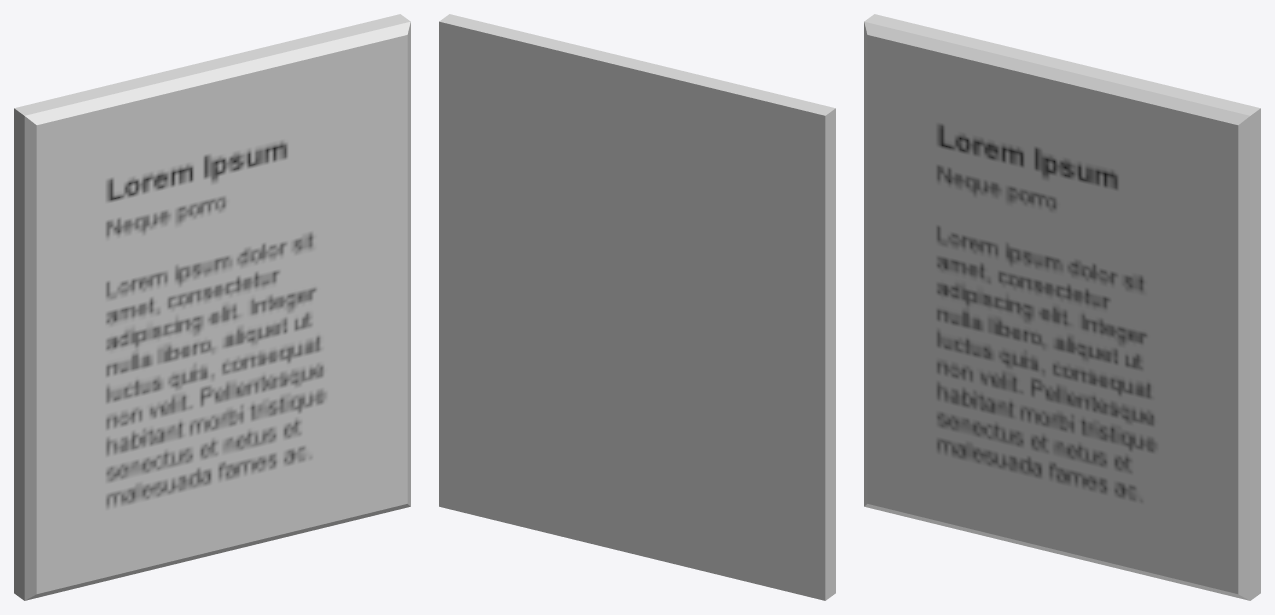
File: description-plate.glb
3 views of the same model, side by side, from view 1: azimuth 30°, elevation 25°; view 2: azimuth 150°, elevation 25°; view 3: azimuth 330°, elevation 25° (orthographic).
Visible parts, largest first — view 1: Cube; view 2: Cube; view 3: Cube.
Part boxes in pixels (box(x1,y1,x2,y2)): Cube: box(14, 14, 410, 600); Cube: box(439, 14, 835, 600); Cube: box(864, 14, 1260, 600).
Bounding box in the file's own units: 0.15 × 0.18 × 0.01.
Materials: 1 (1 with a texture image).
